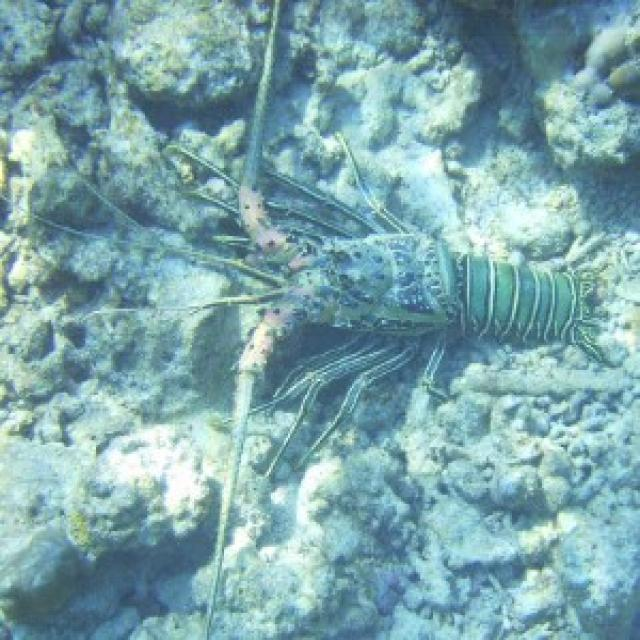lobsters: (134, 0, 640, 540)
